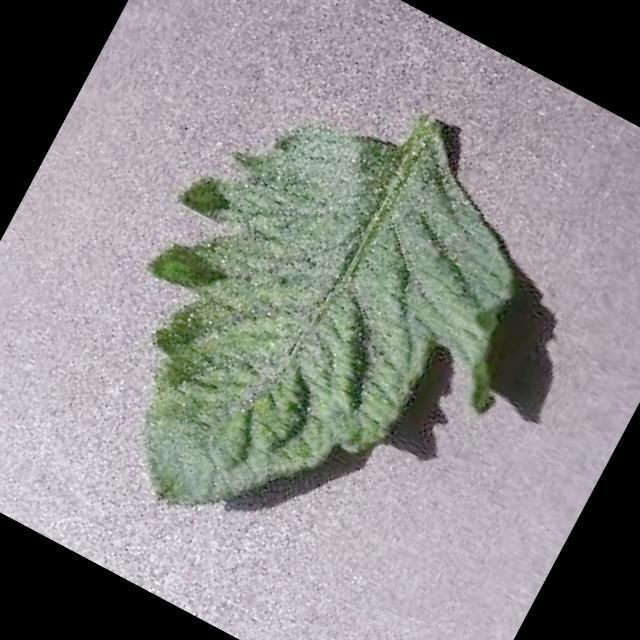Tomato mosaic virus leaf: (45, 38, 594, 624)
